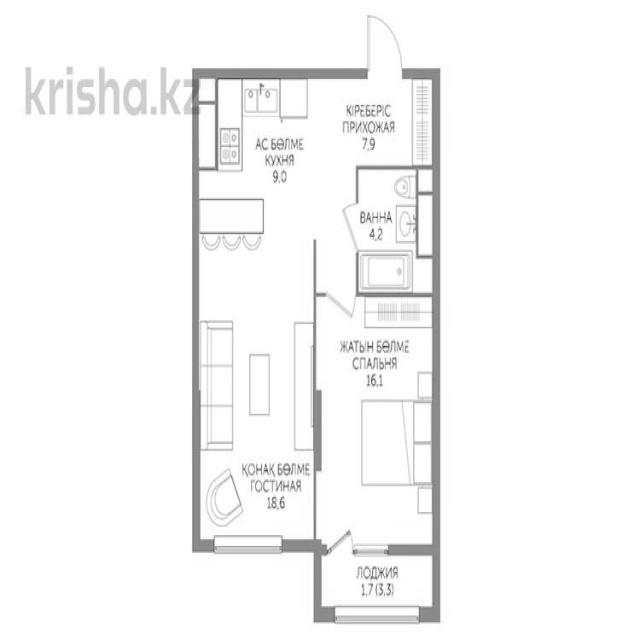balcony: (316, 554, 437, 614)
bathroom: (355, 160, 432, 292)
hallway: (309, 74, 437, 166)
living_room: (317, 289, 439, 553)
studio: (199, 70, 314, 546)
